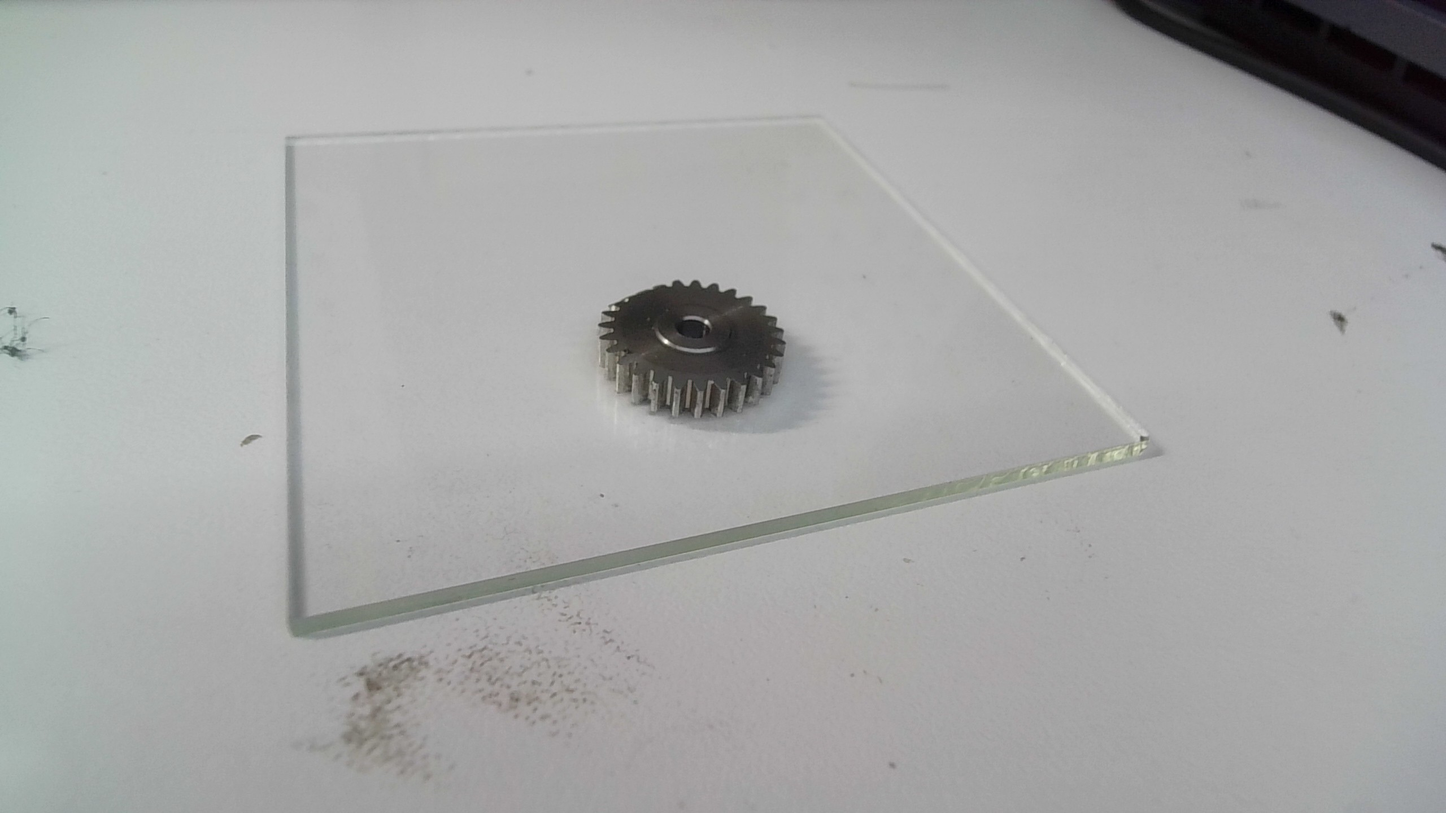gear: (593, 275, 787, 423)
